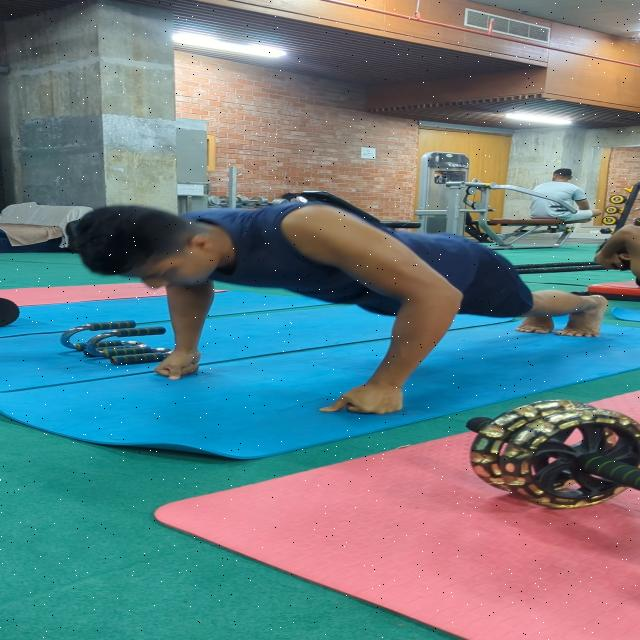Normal_PushUps: (27, 195, 610, 417)
